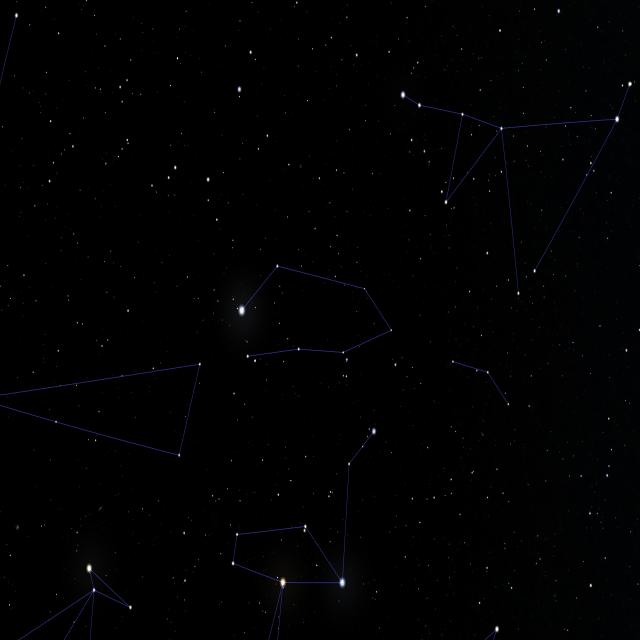Piscis Austrinus: (232, 259, 396, 363)
